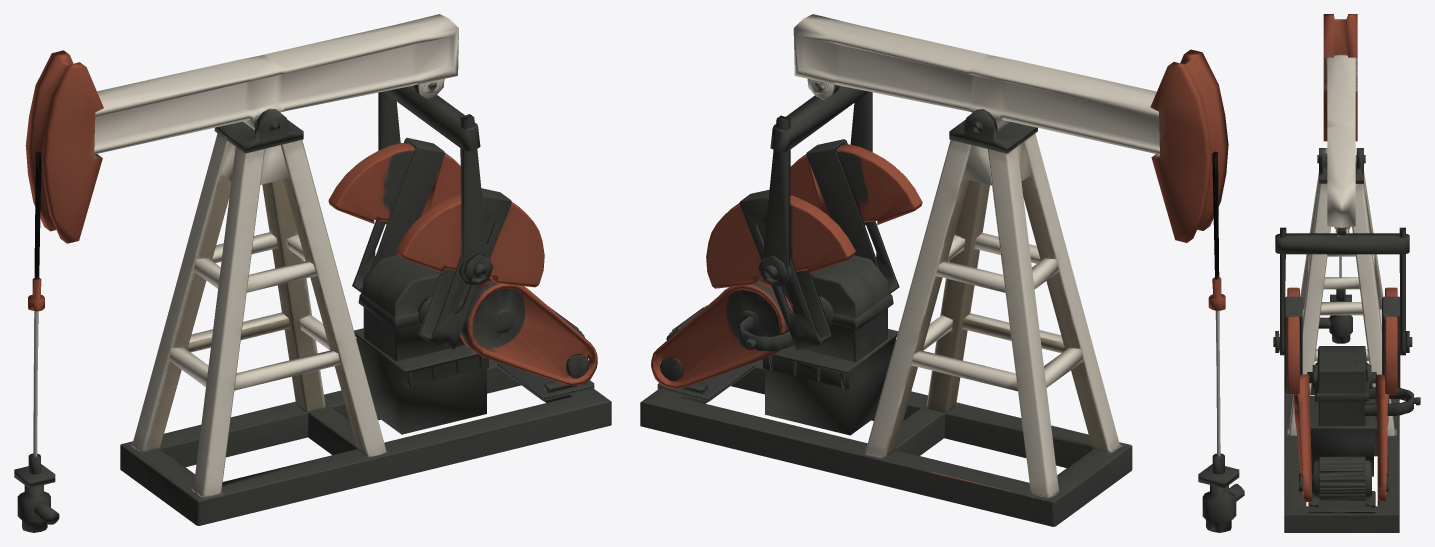
File: original_glb.glb
3 renders of one model, left to right at view 1: azimuth 30°, elevation 25°; view 2: azimuth 150°, elevation 25°; view 3: azimuth 270°, elevation 25°, orthographic. The views are drawn at different scales.
Visible parts, largest first — view 1: Ivory Beam Pumpjack; view 2: Ivory Beam Pumpjack; view 3: Ivory Beam Pumpjack.
Part boxes in pixels (x1=…): Ivory Beam Pumpjack: x1=14, y1=14, x2=611, y2=532; Ivory Beam Pumpjack: x1=640, y1=14, x2=1244, y2=532; Ivory Beam Pumpjack: x1=1273, y1=14, x2=1420, y2=532.
Size of the model in its own units: 0.998 by 0.7949 by 0.3145.
1 material, 1 textured.
